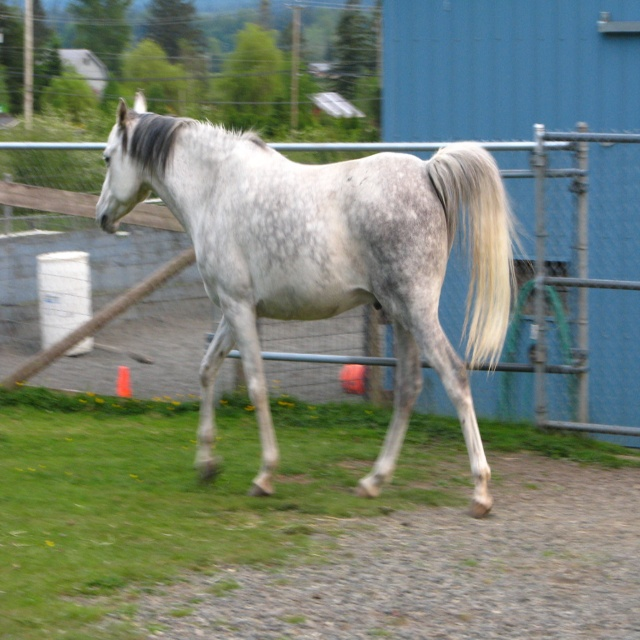Horse: (97, 92, 530, 519)
